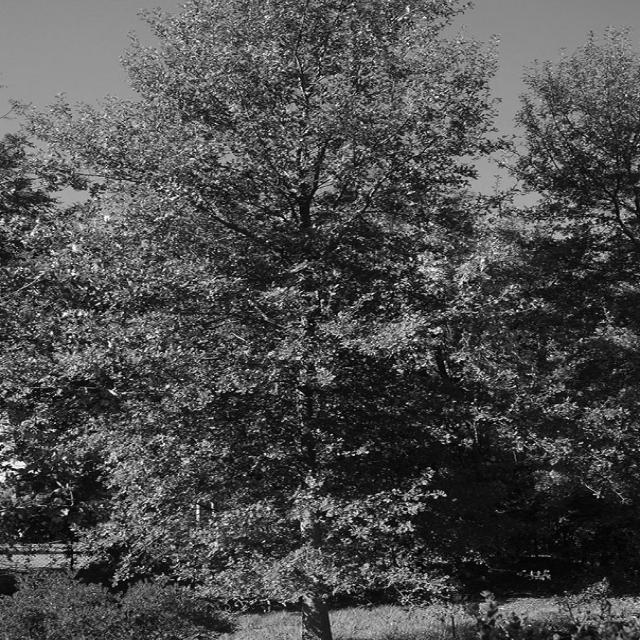Quercus chrysolepis: (32, 0, 542, 640)
